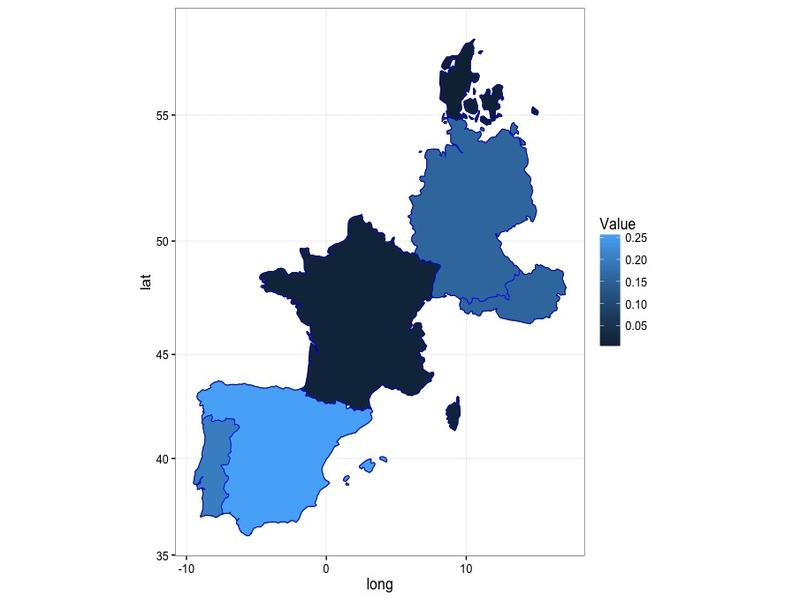legend: (595, 216, 652, 350)
